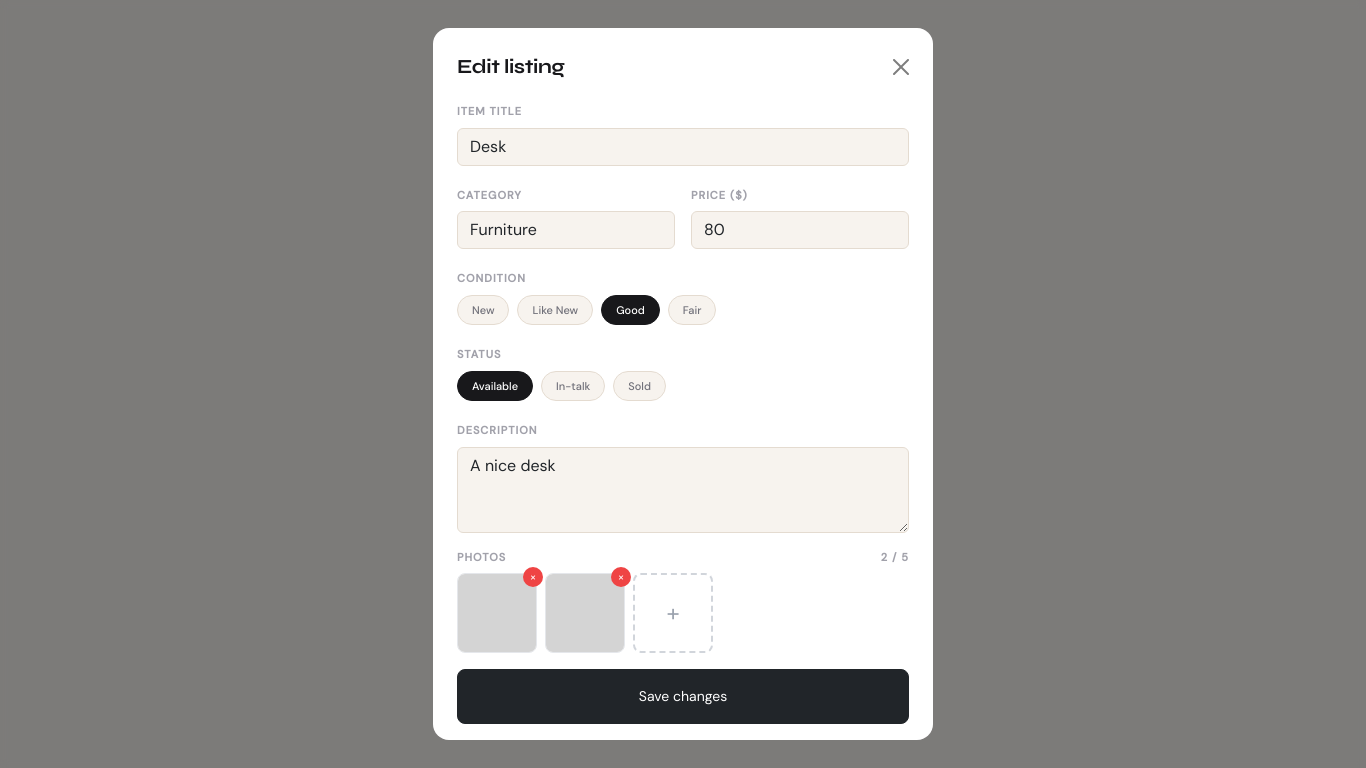
Test case: EditListingModal — form fields › shows buyer email field when Sold status is selected
Step 1. Click the text "Sold" → coordinates (640, 386), box [613,370,666,401]
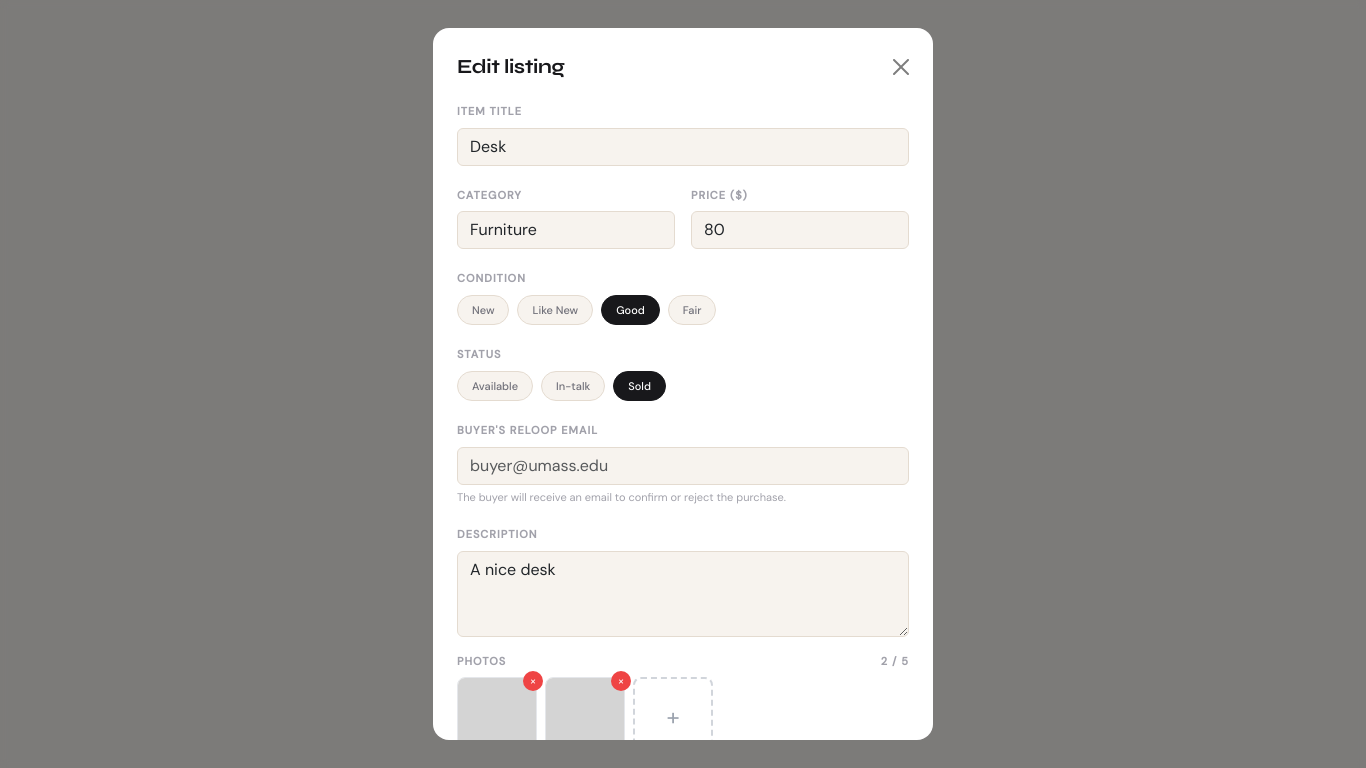
Result: the field with placeholder "buyer@umass.edu" is shown at [457,446,909,484]
